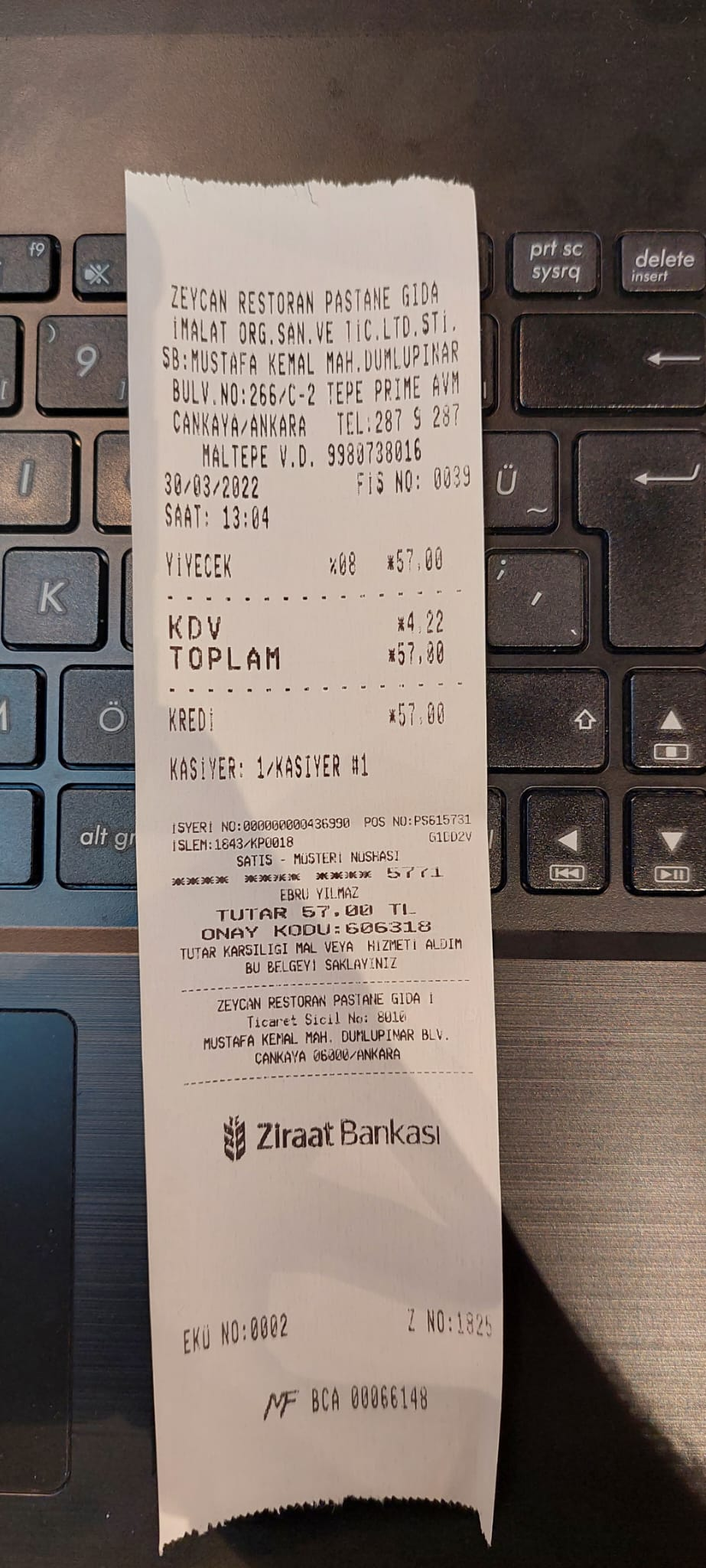date: (393, 636, 458, 676)
price: (150, 467, 274, 506)
workplace: (155, 271, 467, 376)
